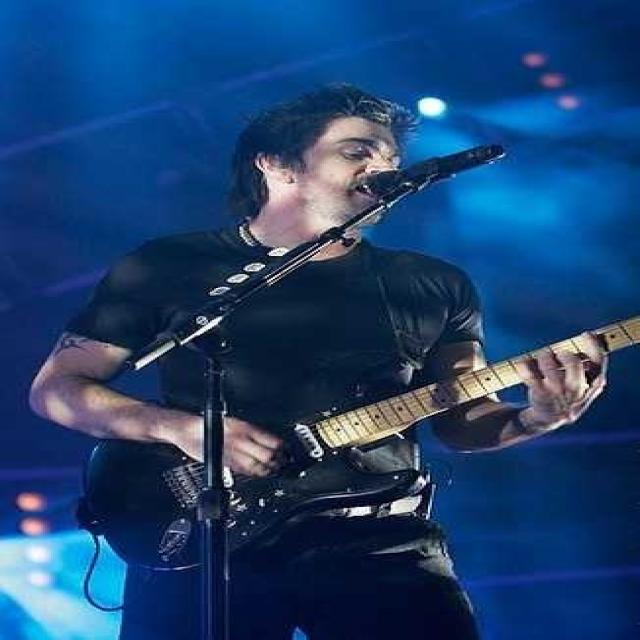microphone: (356, 142, 557, 208)
